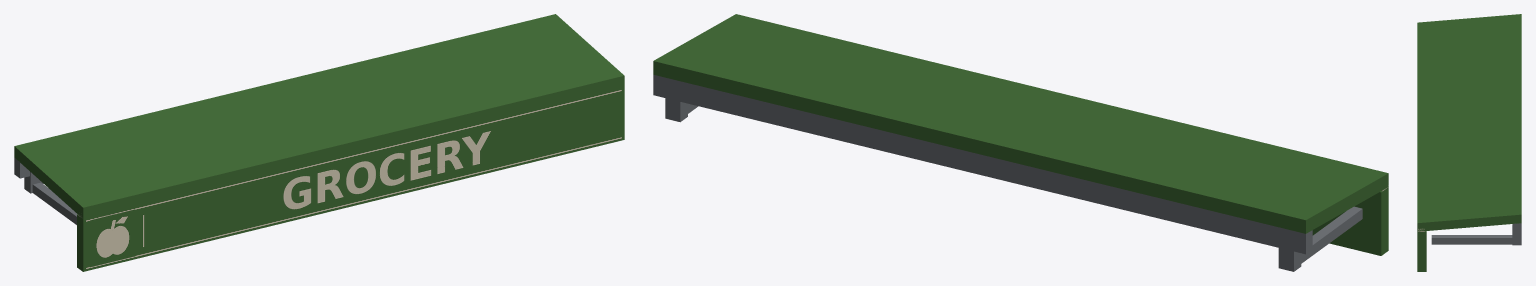
File: building-business-grocery.glb
3 renders of one model, left to right at view 1: azimuth 30°, elevation 25°; view 2: azimuth 150°, elevation 25°; view 3: azimuth 270°, elevation 25°, orthographic. The views are drawn at different scales.
Visible parts, largest first — view 1: business-grocery; view 2: business-grocery; view 3: business-grocery.
Boxes of the visible parts, x1=… form: business-grocery: x1=14, y1=14, x2=624, y2=271; business-grocery: x1=653, y1=14, x2=1388, y2=271; business-grocery: x1=1417, y1=14, x2=1521, y2=271.
Size of the model in its own units: 3 by 0.4 by 0.66.
4 materials, 1 textured.
